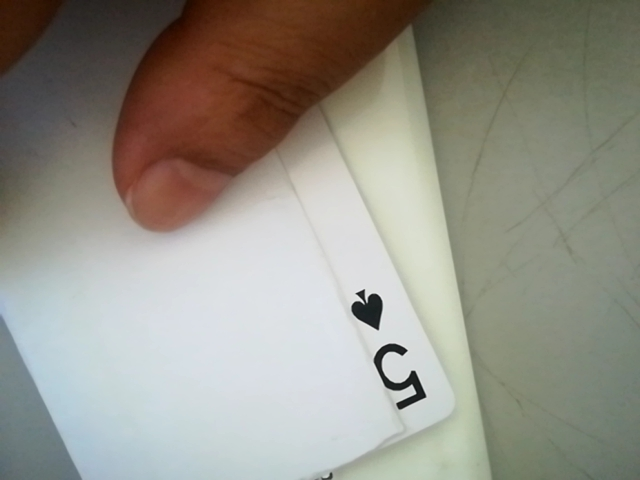ht 5: (339, 281, 457, 422)
